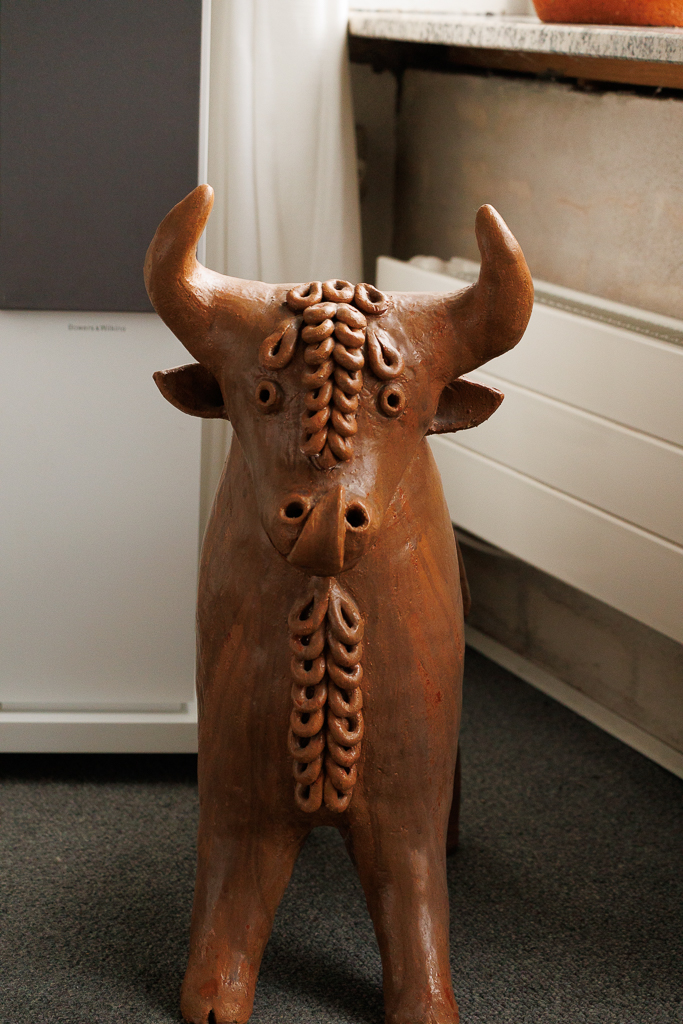Cattle: (131, 170, 545, 1024)
